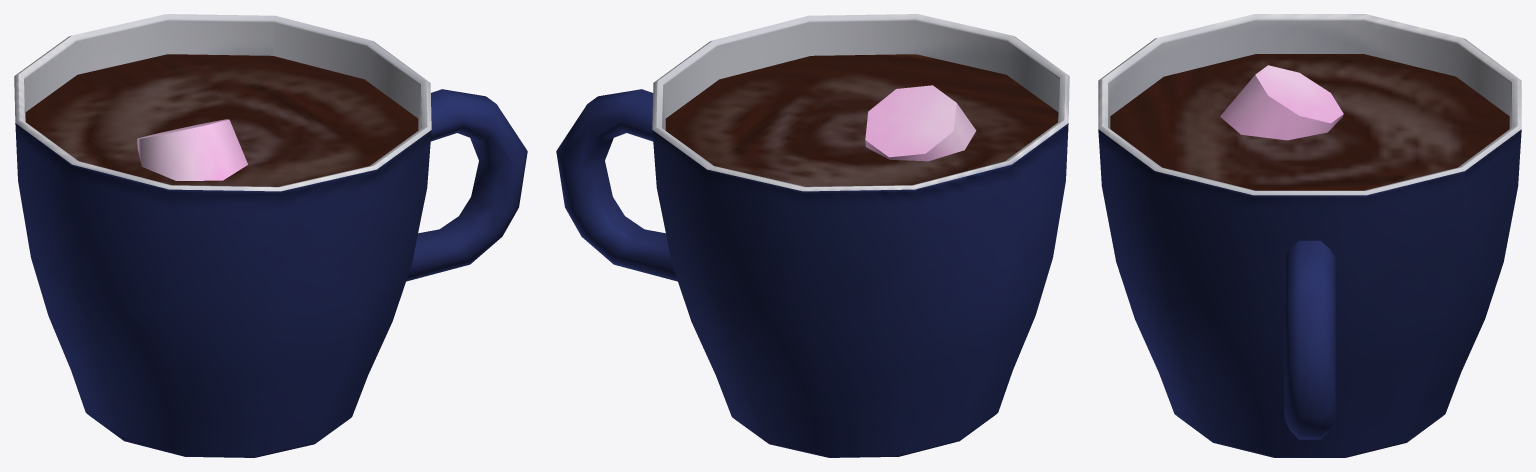
Rendered from SM_EspressoMug.fbx.
The picture shows the model from 3 angles, left to right: view 1: azimuth 30°, elevation 25°; view 2: azimuth 150°, elevation 25°; view 3: azimuth 270°, elevation 25°; orthographic projection.
Visible parts, largest first — view 1: SM_EspressoMug; view 2: SM_EspressoMug; view 3: SM_EspressoMug.
Part boxes in pixels (x1,y1,x2,y2): SM_EspressoMug: (14, 14, 527, 457); SM_EspressoMug: (556, 14, 1069, 457); SM_EspressoMug: (1098, 14, 1521, 457).
Size of the model in its own units: 2.31 by 1.42 by 1.77.
